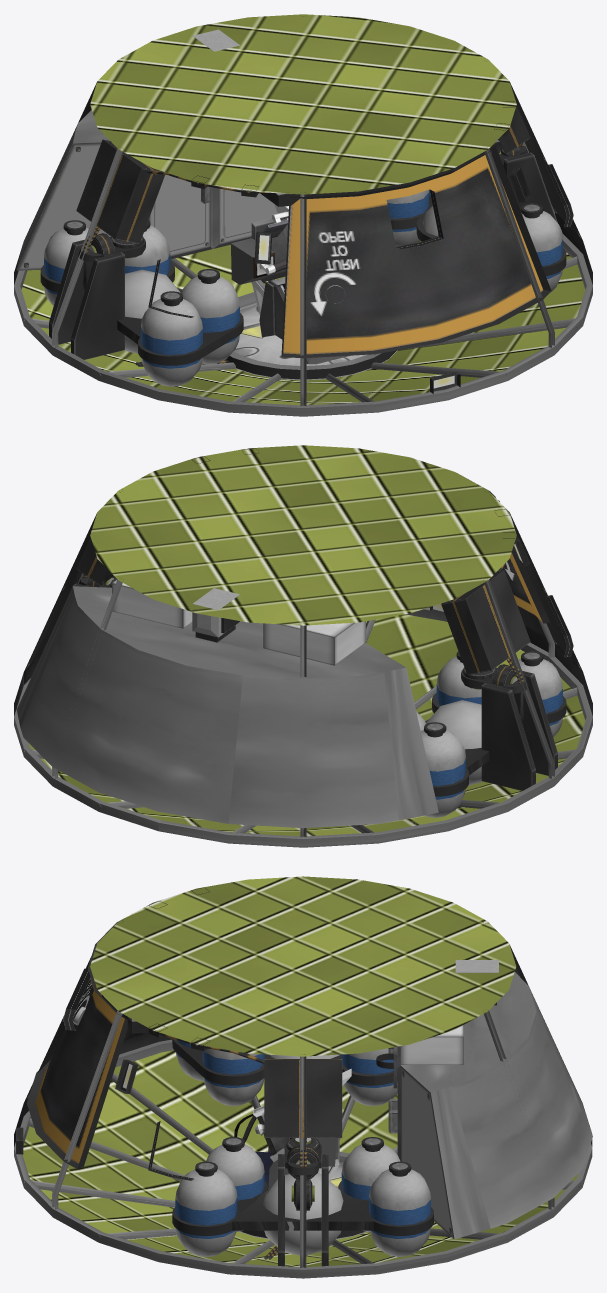
File: BackseatSpaceOriginal.FBX
The picture shows the model from 3 angles, top to bottom: view 1: azimuth 30°, elevation 25°; view 2: azimuth 150°, elevation 25°; view 3: azimuth 270°, elevation 25°; orthographic projection.
Parts seen in each view (by area): view 1: InternalEndCaps, CrewHatch, BackWall, StorageLocker, Tube001, AvionicsBox001, GyroBrace001, InternalBtmHatch, AirTank001, AirTank005, Seat002, BackseatInternal (+18 smaller); view 2: StorageLocker, InternalEndCaps, BackWall, Tube001, AvionicsBox001, GyroBrace002, BackseatInternal, HVAC002, AirTank004, MonoTank002, HVAC001, GyroBrace001 (+6 smaller); view 3: InternalEndCaps, StorageLocker, BackWall, CrewHatch, Tube001, AvionicsBox002, AirTank003, AirTank002, MonoTank001, MonoBracket001, AirTank007, AirTank006 (+20 smaller).
Boxes of the visible parts, bbox=[...] form: InternalEndCaps: bbox=[90, 14, 516, 380]; CrewHatch: bbox=[281, 146, 551, 358]; BackWall: bbox=[21, 240, 585, 405]; StorageLocker: bbox=[16, 110, 277, 270]; Tube001: bbox=[14, 233, 592, 416]; AvionicsBox001: bbox=[76, 139, 164, 244]; GyroBrace001: bbox=[71, 252, 124, 359]; InternalBtmHatch: bbox=[226, 292, 396, 379]; AirTank001: bbox=[141, 291, 202, 386]; AirTank005: bbox=[181, 269, 239, 364]; Seat002: bbox=[251, 218, 350, 364]; BackseatInternal: bbox=[14, 82, 592, 327]; StorageLocker: bbox=[16, 586, 438, 828]; InternalEndCaps: bbox=[90, 445, 516, 625]; BackWall: bbox=[28, 614, 585, 836]; Tube001: bbox=[14, 607, 592, 847]; AvionicsBox001: bbox=[441, 570, 530, 675]; GyroBrace002: bbox=[481, 683, 535, 790]; BackseatInternal: bbox=[14, 513, 592, 758]; HVAC002: bbox=[263, 621, 365, 665]; AirTank004: bbox=[420, 722, 465, 817]; MonoTank002: bbox=[426, 700, 482, 785]; HVAC001: bbox=[112, 579, 192, 628]; GyroBrace001: bbox=[522, 671, 557, 775]; InternalEndCaps: bbox=[90, 876, 516, 1239]; StorageLocker: bbox=[397, 972, 592, 1239]; BackWall: bbox=[22, 1050, 577, 1266]; CrewHatch: bbox=[27, 919, 127, 1168]; Tube001: bbox=[14, 1039, 592, 1278]; AvionicsBox002: bbox=[264, 1059, 342, 1137]; AirTank003: bbox=[369, 1161, 430, 1256]; AirTank002: bbox=[175, 1161, 237, 1256]; MonoTank001: bbox=[263, 1173, 343, 1255]; MonoBracket001: bbox=[232, 1189, 374, 1230]; AirTank007: bbox=[341, 1137, 400, 1231]; AirTank006: bbox=[206, 1137, 264, 1231].
Bounding box in the file's own units: 1.86 × 0.8317 × 1.86.
